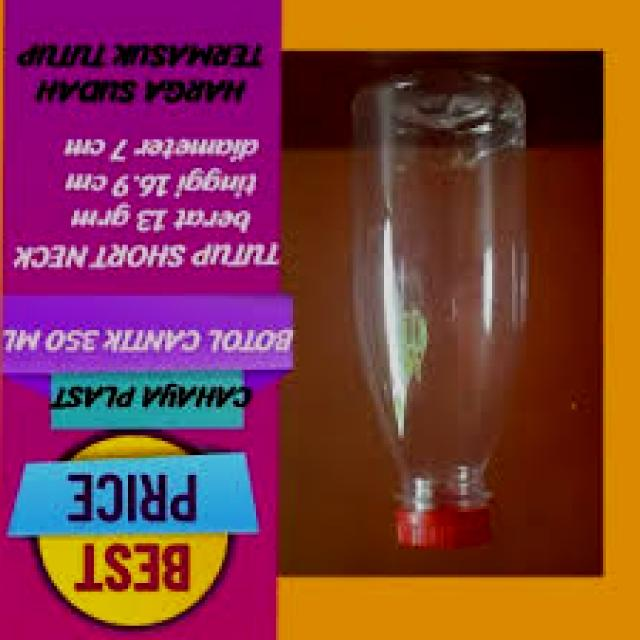bottle: (360, 81, 524, 556)
